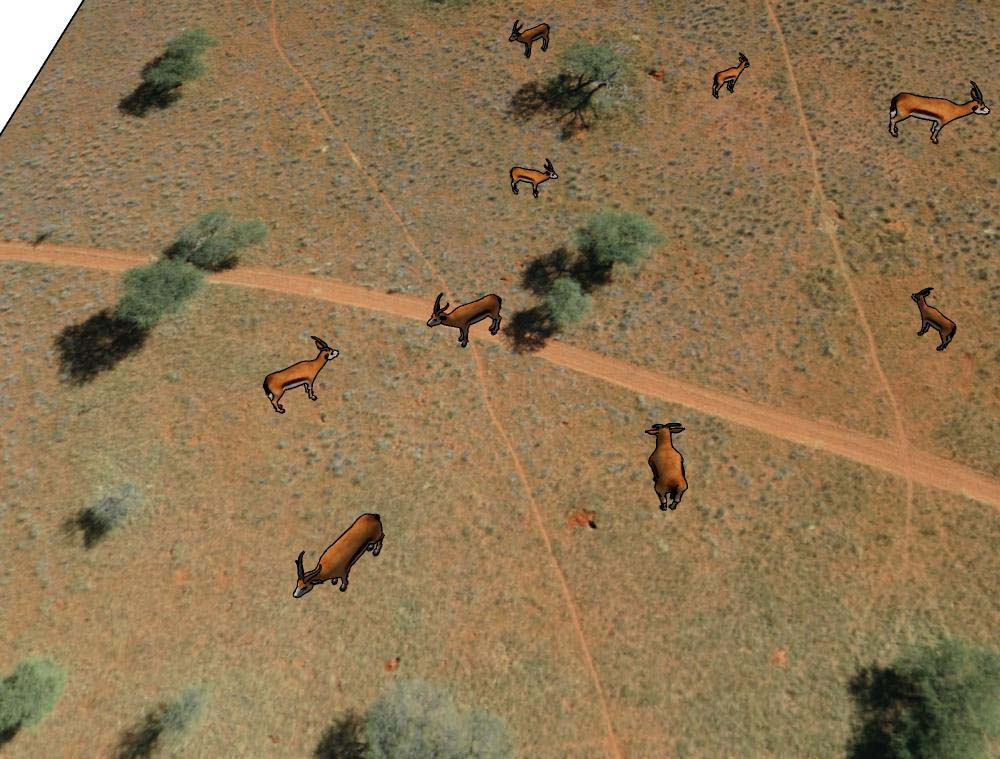springbok: (292, 510, 385, 600), (886, 78, 1000, 148), (263, 332, 339, 414), (642, 419, 690, 517), (427, 292, 507, 349), (907, 281, 959, 355), (505, 9, 559, 64), (701, 51, 757, 99), (508, 156, 559, 203)
